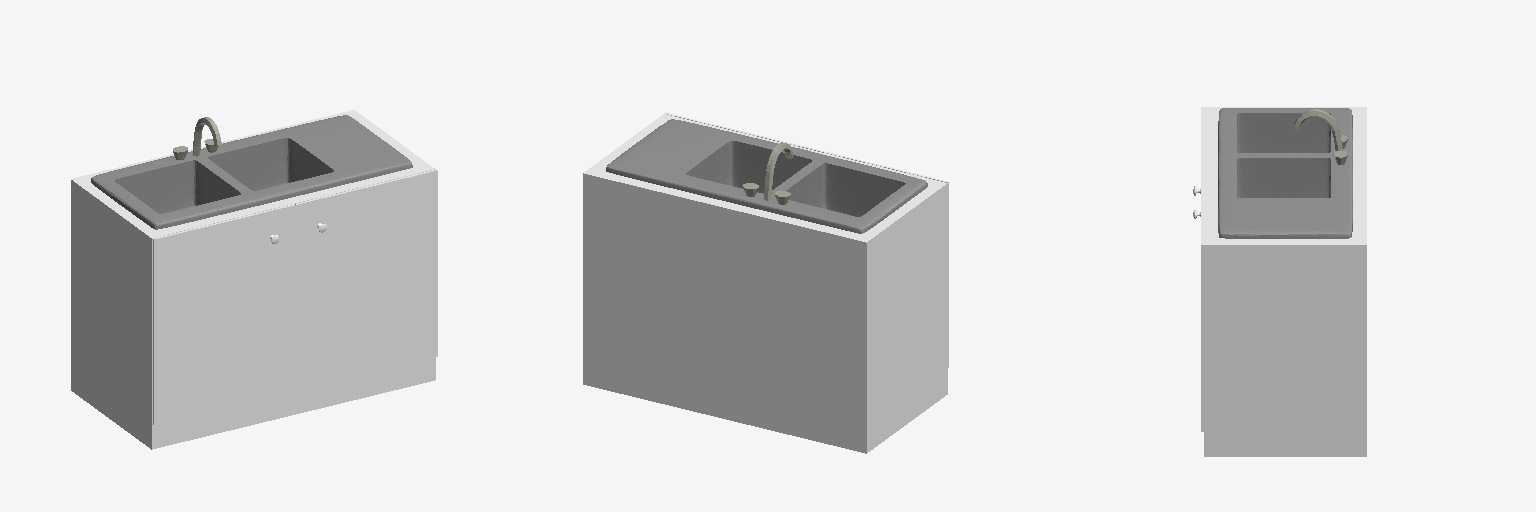
File: sink.obj
The picture shows the model from 3 angles: view 1: azimuth 30°, elevation 25°; view 2: azimuth 150°, elevation 25°; view 3: azimuth 270°, elevation 25°; orthographic projection.
Parts seen in each view (by area): view 1: Meuble_2, Porte_6, Porte_1_9, Evier_1, Robinet_5; view 2: Meuble_2, Evier_1, Robinet_5; view 3: Meuble_2, Evier_1, Porte_1_9, Robinet_5.
Boxes of the visible parts, x1=… form: Meuble_2: x1=71, y1=110, x2=435, y2=449; Porte_6: x1=153, y1=204, x2=295, y2=425; Porte_1_9: x1=295, y1=170, x2=437, y2=390; Evier_1: x1=91, y1=115, x2=412, y2=229; Robinet_5: x1=193, y1=117, x2=221, y2=156; Meuble_2: x1=583, y1=114, x2=947, y2=453; Evier_1: x1=606, y1=119, x2=927, y2=233; Robinet_5: x1=764, y1=143, x2=792, y2=200; Meuble_2: x1=1204, y1=107, x2=1366, y2=456; Evier_1: x1=1218, y1=108, x2=1352, y2=238; Porte_1_9: x1=1201, y1=176, x2=1203, y2=431; Robinet_5: x1=1293, y1=109, x2=1342, y2=150.
Size of the model in its own units: 120 by 106 by 63.5.